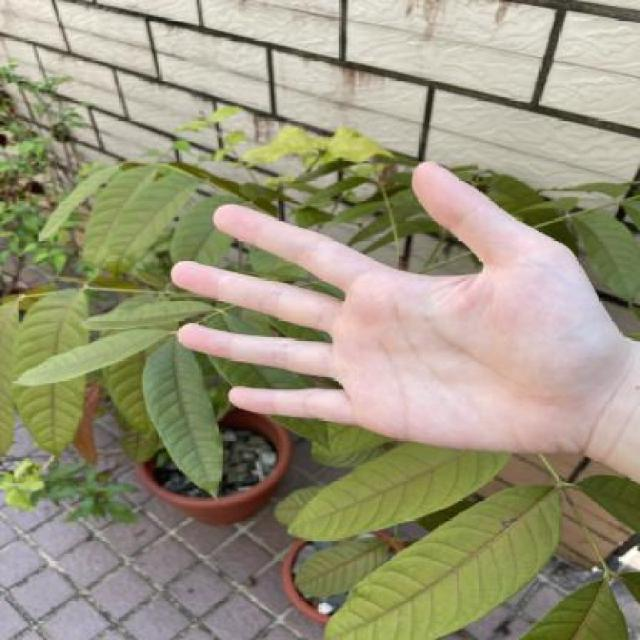no_glove: (154, 152, 640, 496)
